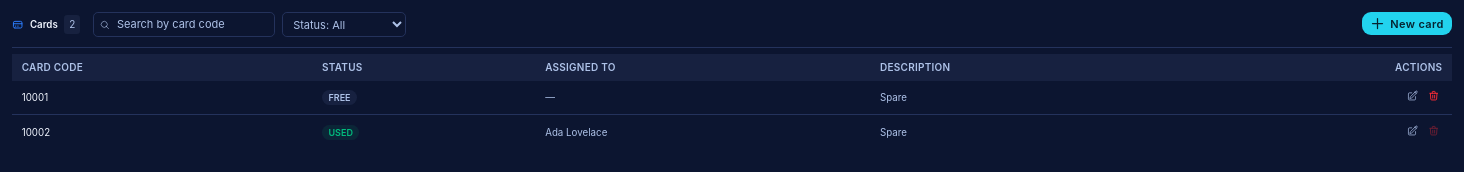
it: the toolbar filters › narrows by status the same way
Expected: the text "10001" is shown, [12, 81, 312, 115]
Select "Status: Used" in the dropdown at (344, 25), box [282, 12, 406, 37]
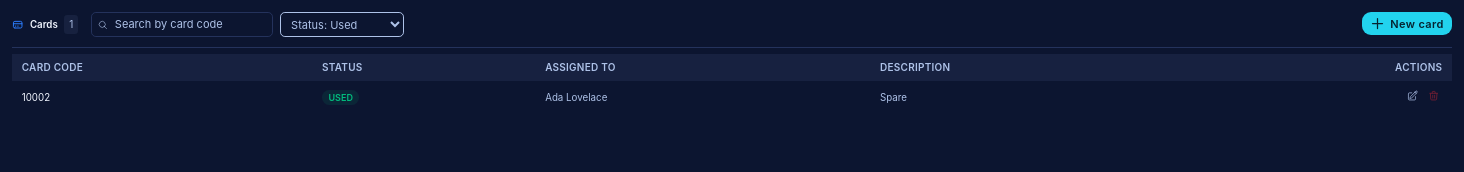
Expected: the text "10002" is shown, [12, 81, 312, 114]
Now the text "10001" is gone
